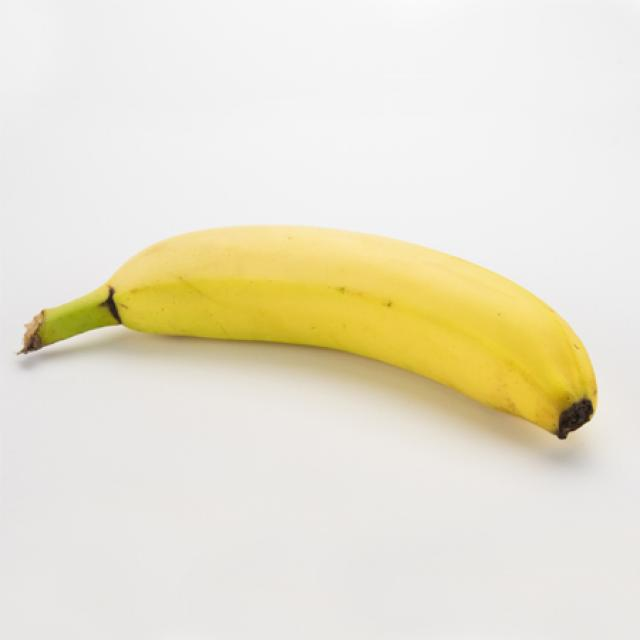Banana: (17, 219, 597, 447)
